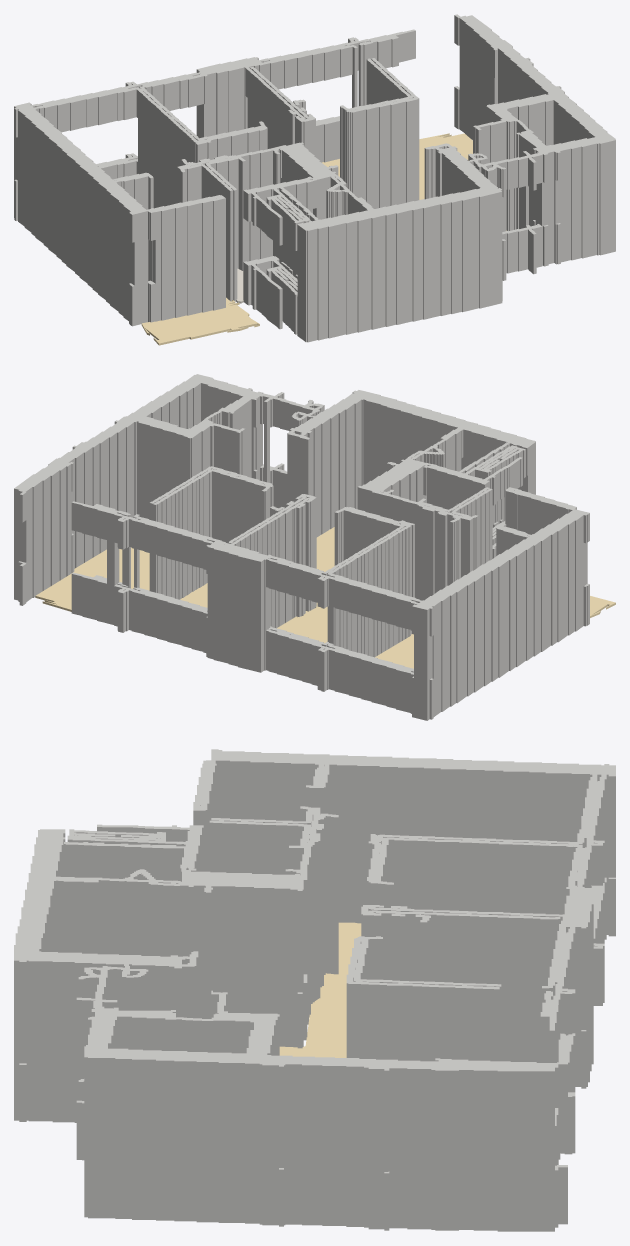
3 views of the same model, one above another, from view 1: azimuth 30°, elevation 25°; view 2: azimuth 150°, elevation 25°; view 3: azimuth 270°, elevation 25° (orthographic). The views are drawn at different scales.
Parts seen in each view (by area): view 1: walls, room:living:0; view 2: walls, room:living:0; view 3: walls, room:living:0.
Part boxes in pixels (bbox=[...]): walls: bbox=[14, 14, 615, 342]; room:living:0: bbox=[141, 133, 506, 345]; walls: bbox=[14, 374, 589, 720]; room:living:0: bbox=[35, 527, 615, 668]; walls: bbox=[14, 749, 615, 1231]; room:living:0: bbox=[279, 922, 361, 1057].
Size of the model in its own units: 12.08 by 2.8 by 9.54.
